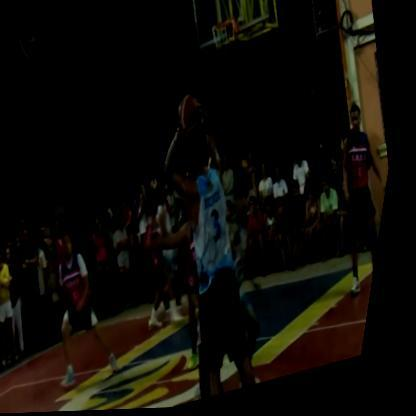basketball: (170, 88, 215, 142)
rim: (197, 9, 256, 82)
